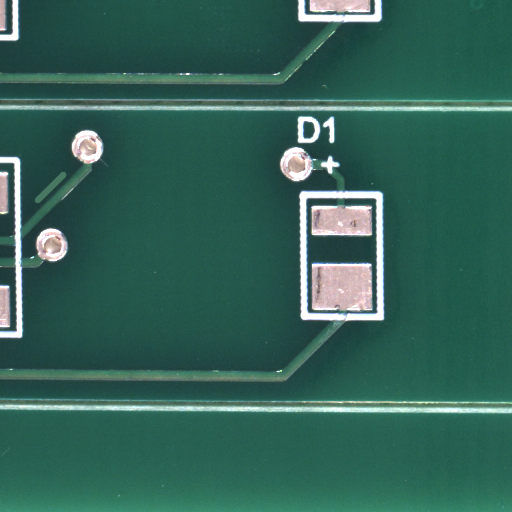Spurious_copper: (50, 187, 83, 220)
